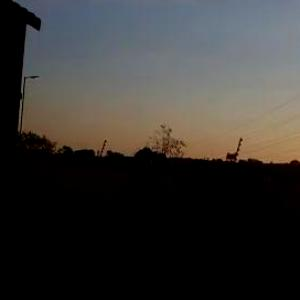follow: (98, 141, 178, 299)
